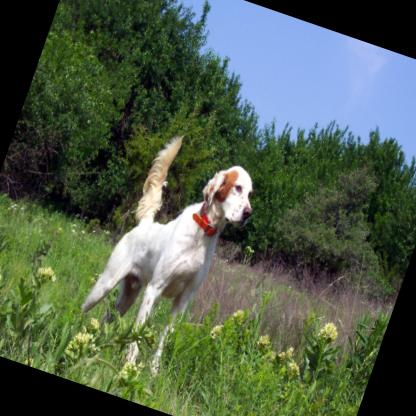English_setter: (62, 119, 269, 404)
